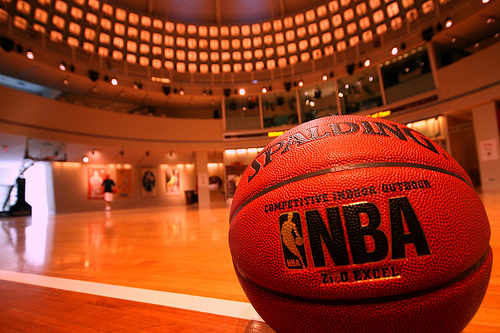basketball: (226, 114, 493, 333)
